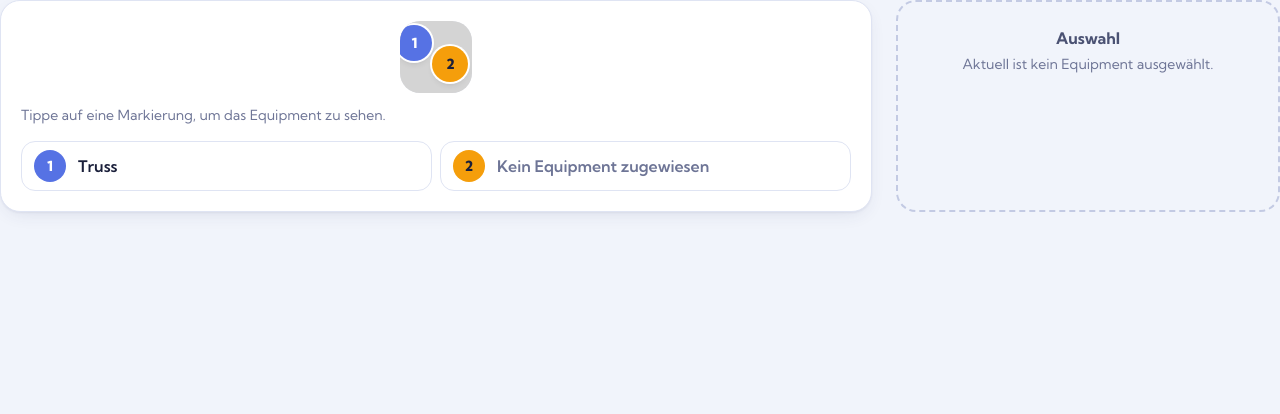
it: PlaceViewer › lets the reader open a marker and shows its equipment
Expected: the text "Aktuell ist kein Equipment ausgewählt." is shown, [962,55,1214,73]
Click the button named "Markierung 1" at (414, 43), box [392,21,436,65]
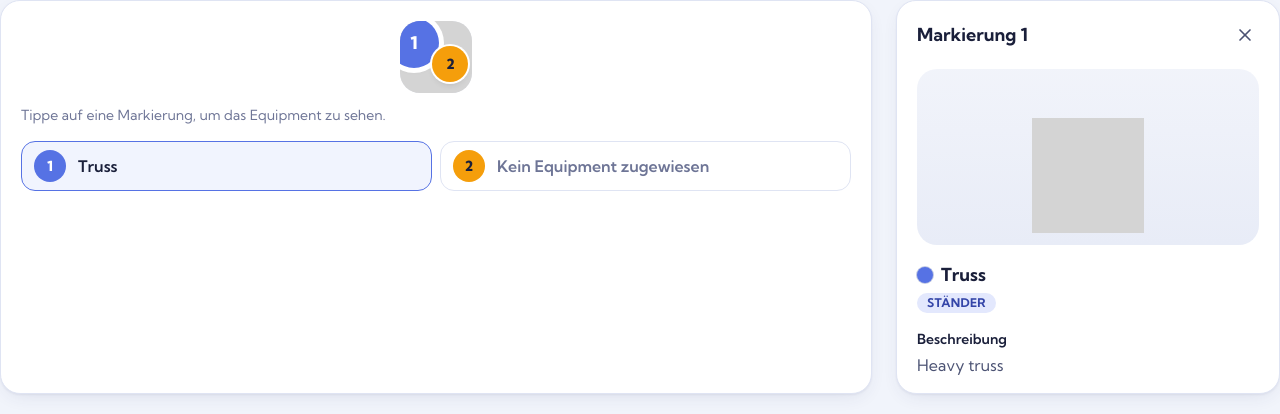
Now the heading "Truss" is shown, box [941,263,986,286]
Now the text "Heavy truss" is shown, box [917,355,1004,375]
